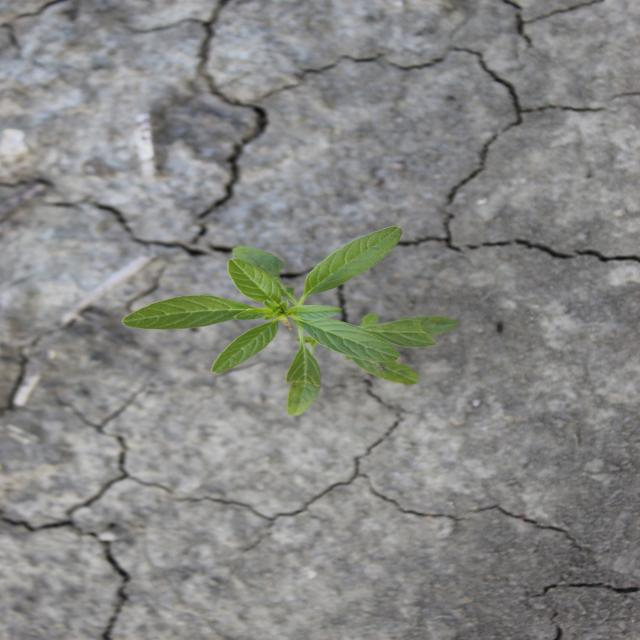Waterhemp: (119, 224, 464, 418)
